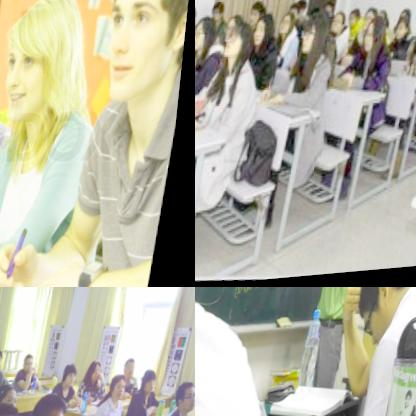head: (0, 0, 103, 140), (91, 0, 195, 127), (354, 287, 416, 351), (224, 20, 259, 65), (300, 16, 333, 61), (362, 15, 391, 57), (195, 13, 220, 55), (252, 15, 279, 51), (32, 393, 72, 416), (0, 385, 26, 416), (277, 9, 300, 40), (109, 377, 132, 407), (223, 11, 246, 40), (330, 11, 349, 42), (207, 0, 229, 26), (394, 18, 413, 47), (63, 367, 82, 396), (142, 374, 162, 401), (248, 0, 267, 28), (177, 387, 195, 416), (363, 7, 381, 31), (89, 364, 107, 388), (124, 364, 140, 388), (347, 11, 363, 34), (295, 0, 310, 21), (24, 358, 38, 376), (0, 348, 8, 376)
